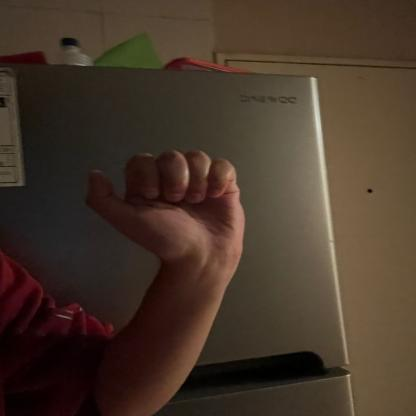E: (77, 141, 253, 255)
